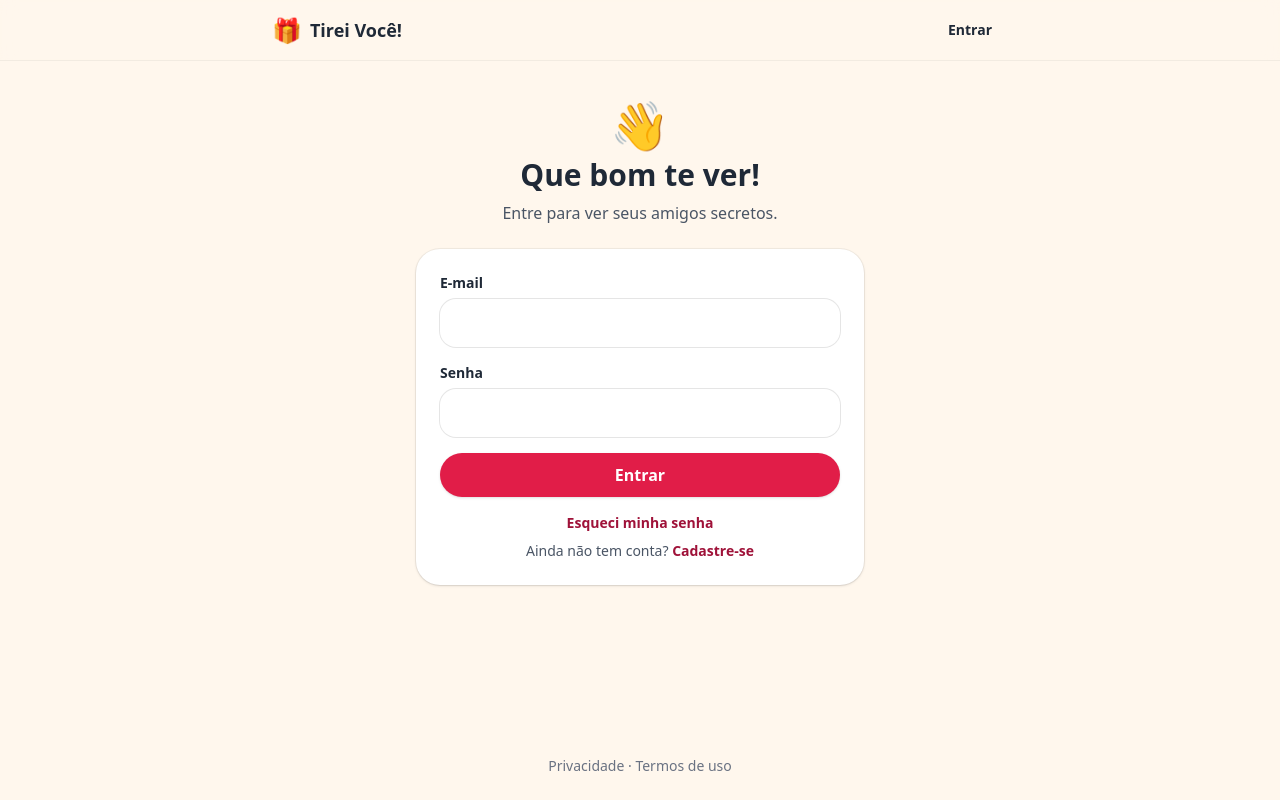
Scenario: login com erro mostra a mensagem da API
Type "ana@example.com" into the field labelled "E-mail".
click(640, 323); type("ana@example.com")  # box [440, 299, 840, 347]
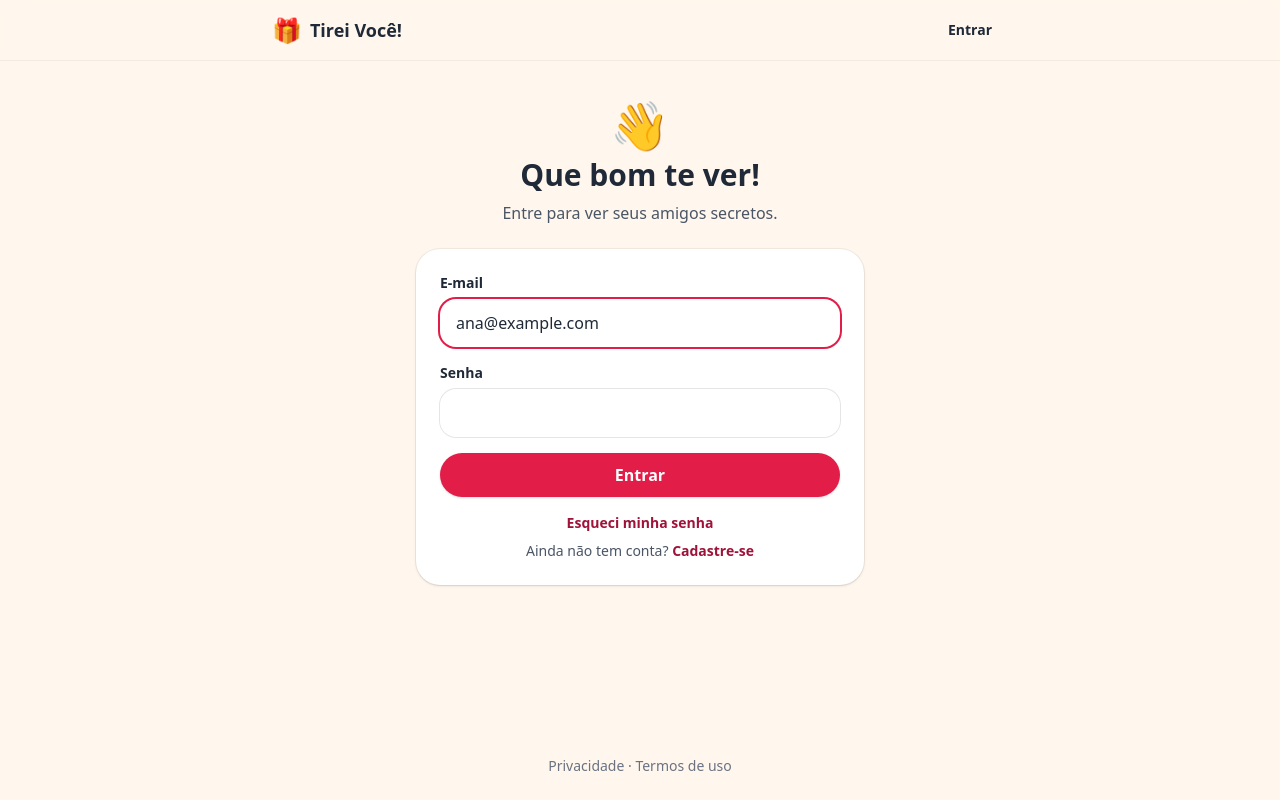
Type "errada123" into the password field labelled "Senha".
click(640, 413); type("errada123")  # box [440, 389, 840, 437]
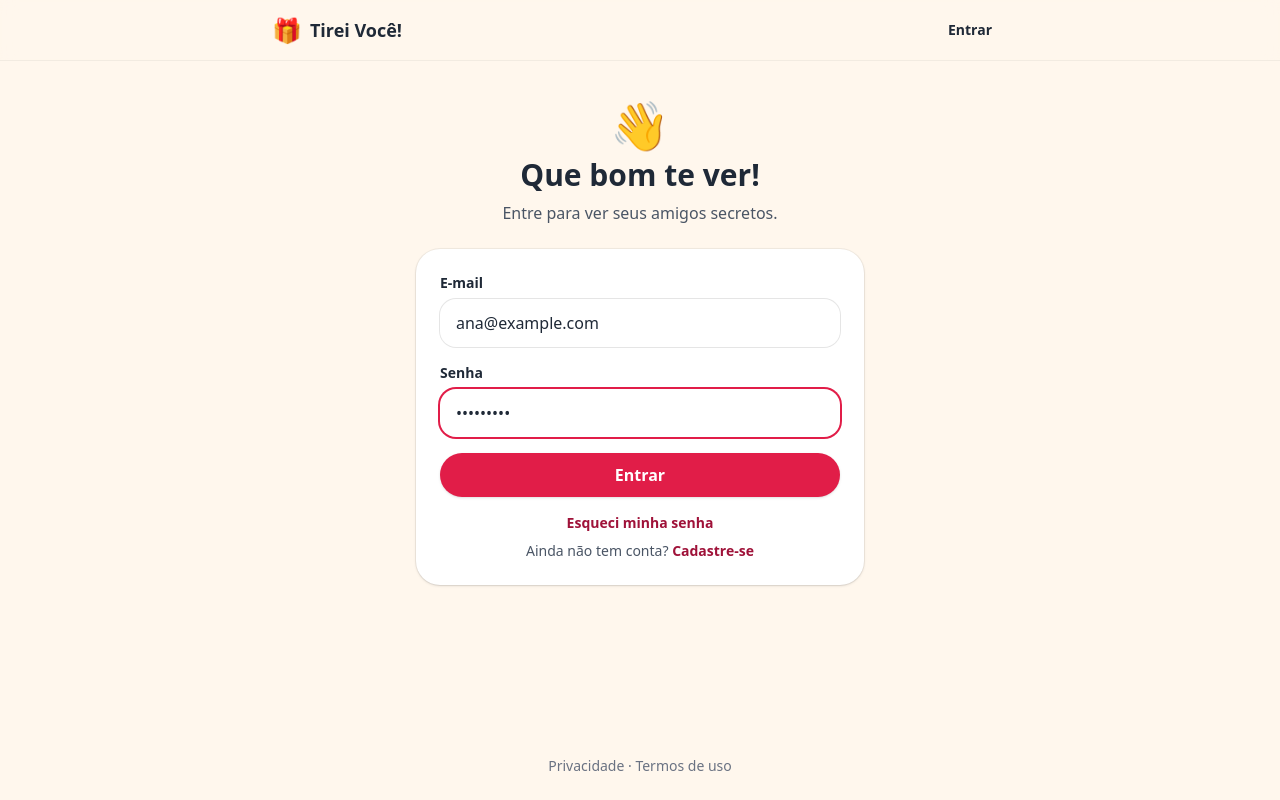
Click the button "Entrar".
click(640, 475)  # box [440, 453, 840, 497]
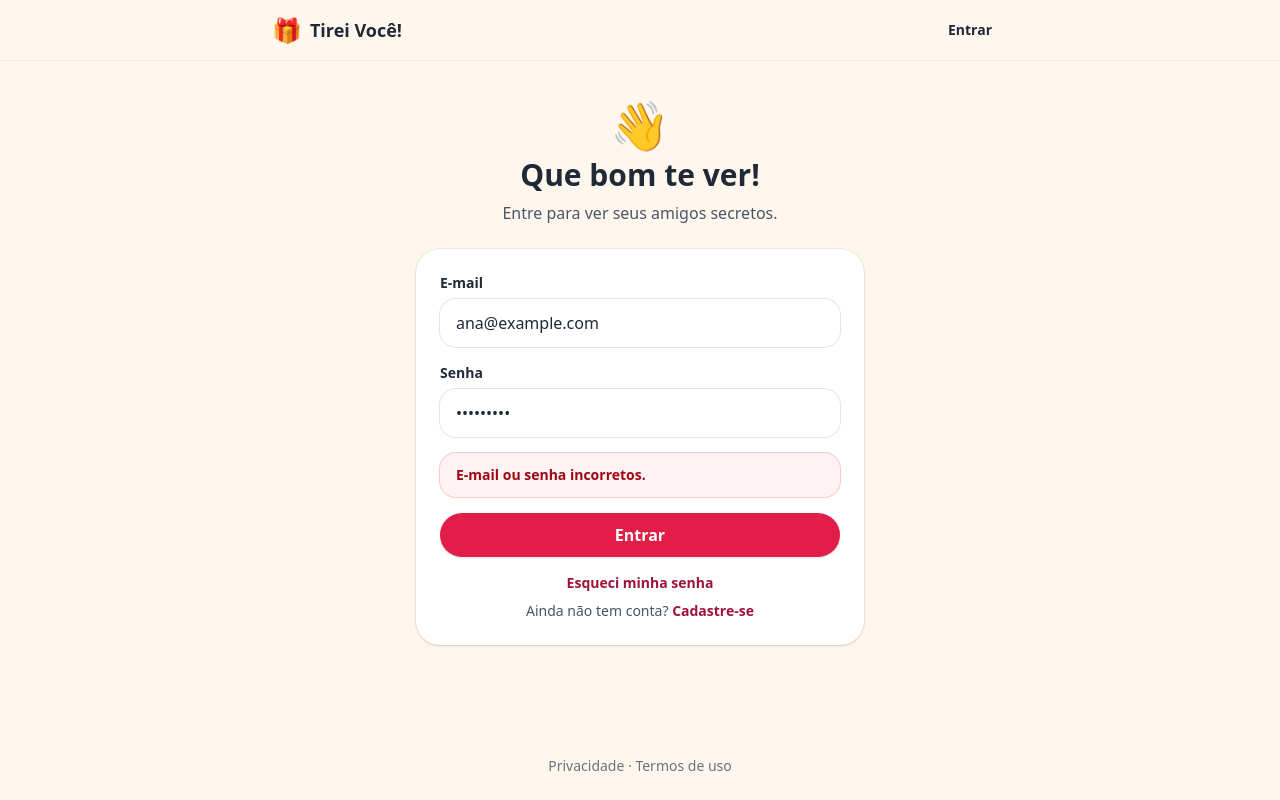
Expected: the text "E-mail ou senha incorretos." is shown, [440, 453, 840, 497]
